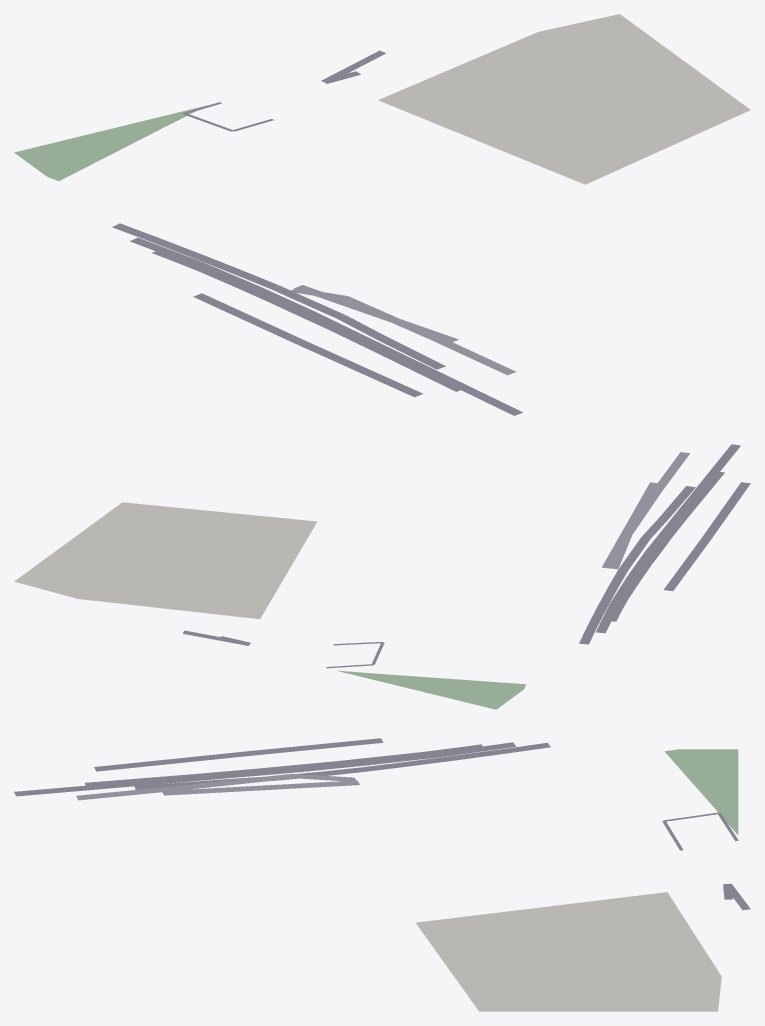
Rendered from 136_99_mid.glb.
3 renders of one model, top to bottom at view 1: azimuth 30°, elevation 25°; view 2: azimuth 150°, elevation 25°; view 3: azimuth 270°, elevation 25°, orthographic. The views are drawn at different scales.
Bounding box in the file's own units: 515 × 10.09 × 590.
